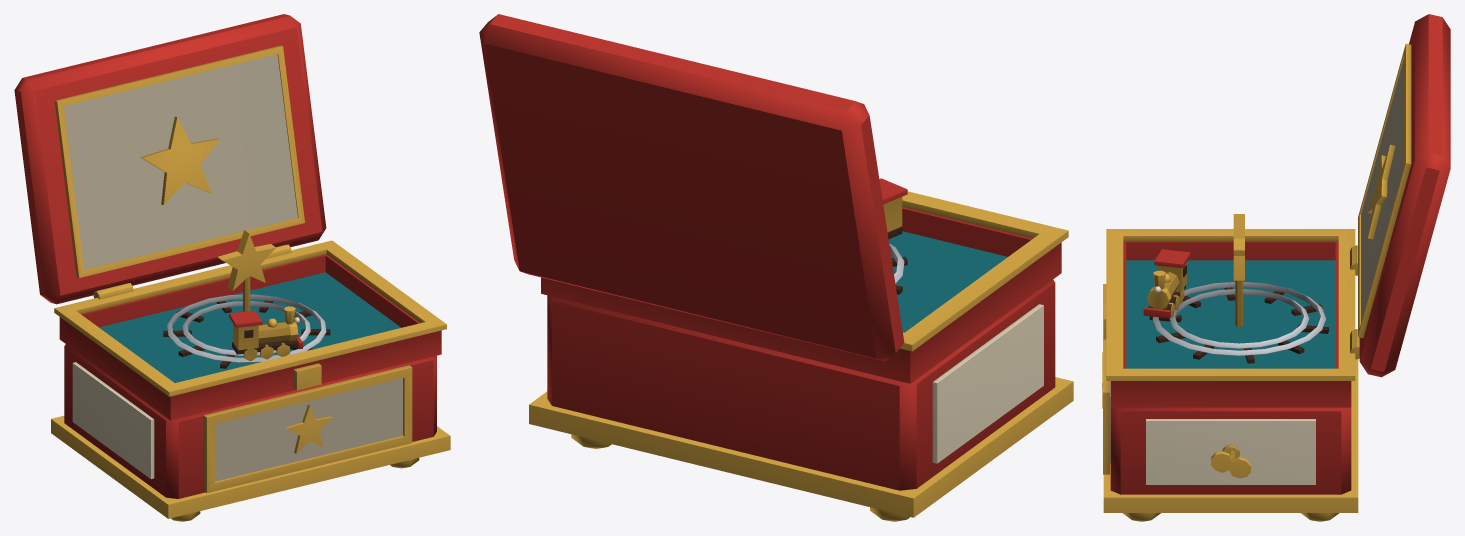
Rendered from music-box.glb.
The picture shows the model from 3 angles, left to right: view 1: azimuth 30°, elevation 25°; view 2: azimuth 150°, elevation 25°; view 3: azimuth 270°, elevation 25°; orthographic projection. The views are drawn at different scales.
Parts seen in each view (by area): view 1: Music box Cream enamel, Music box Red lacquer, Music box Gold, Music box Teal velvet, Train, Music box Silver, Music box Dark wood; view 2: Music box Red lacquer, Music box Gold, Music box Cream enamel, Music box Teal velvet, Train; view 3: Music box Red lacquer, Music box Gold, Music box Teal velvet, Music box Cream enamel, Music box Silver, Train, Music box Dark wood.
Boxes of the visible parts, <box> form: Music box Cream enamel: <box>63,54,402,481</box>; Music box Red lacquer: <box>14,14,441,498</box>; Music box Gold: <box>51,45,450,521</box>; Music box Teal velvet: <box>99,272,401,382</box>; Train: <box>218,230,302,361</box>; Music box Silver: <box>167,294,326,362</box>; Music box Dark wood: <box>163,300,330,368</box>; Music box Red lacquer: <box>479,14,1061,490</box>; Music box Gold: <box>529,191,1073,521</box>; Music box Cream enamel: <box>932,304,1043,463</box>; Music box Teal velvet: <box>888,231,1007,332</box>; Train: <box>879,178,907,239</box>; Music box Red lacquer: <box>1110,14,1450,494</box>; Music box Gold: <box>1102,43,1411,521</box>; Music box Teal velvet: <box>1126,260,1335,368</box>; Music box Cream enamel: <box>1110,59,1403,484</box>; Music box Silver: <box>1152,282,1326,355</box>; Train: <box>1143,214,1244,326</box>; Music box Dark wood: <box>1149,287,1328,363</box>.
Size of the model in its own units: 0.27 by 0.2968 by 0.2464.
